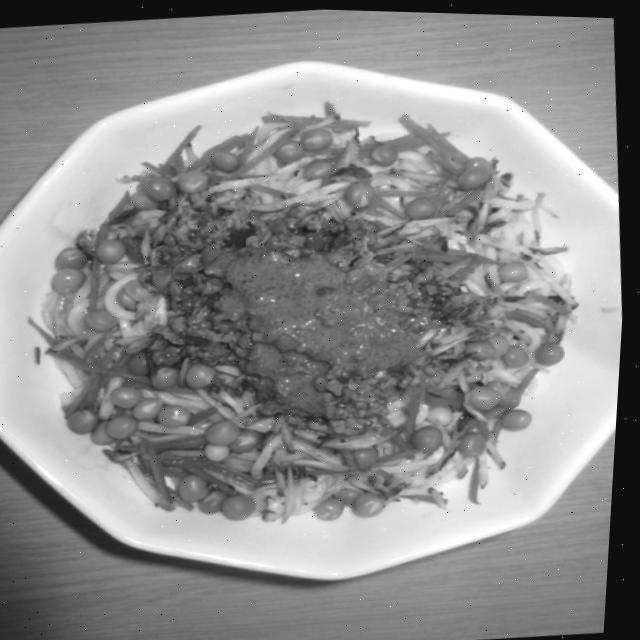面条主食: (0, 14, 639, 608)
